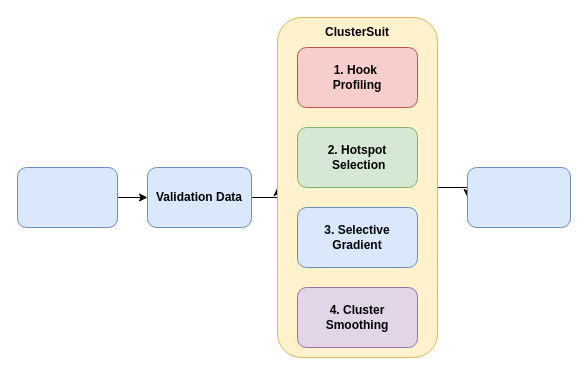
Image size: 588x375. Some labels were removed from this diagram. The box of each missing label's shape, as (x1, y1, x2, y2) in pixels:
Output Score: (466, 166, 570, 228)
Train Data: (16, 166, 118, 228)
